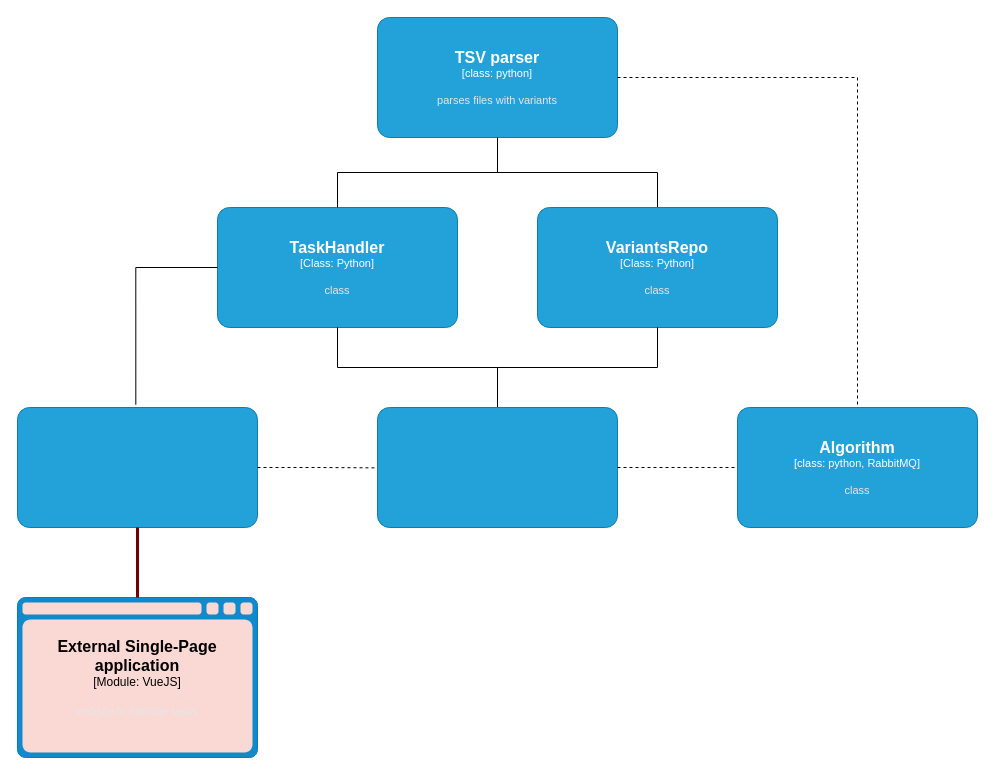
The diagram is 995 pixels wide and 775 high, and some of its shapes have lost their labels. Here are the shapes that lost their labels. From the top down, the box of each, then its label:
(16, 406, 258, 528): Rest API [Class: FastAPI, Rabbit MQ] backend managing all requests
(376, 406, 618, 528): Orchestrator [Class: Python, RabbitMQ] checks SNV/INDEL and if cached
